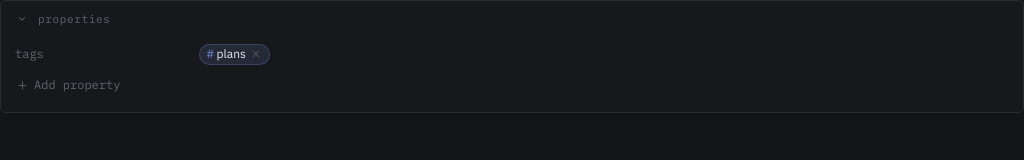
NoteFrontmatter: panel mode › singularizes a lone tag in the summary
Click the button with class "note-fm__card-head" at (63, 19), box [15,11,111,27]
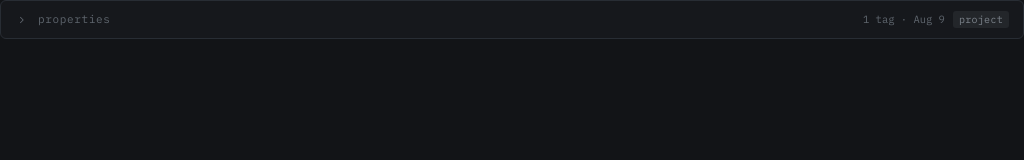
Now the text with class "note-fm__summary" shows "1 tag", box [863,12,945,26]
